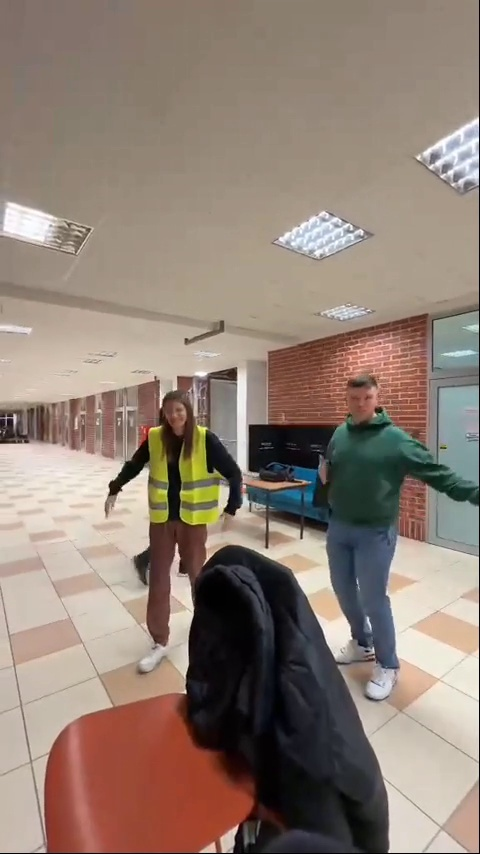no vest: (318, 368, 465, 726)
vest: (132, 396, 250, 681)
